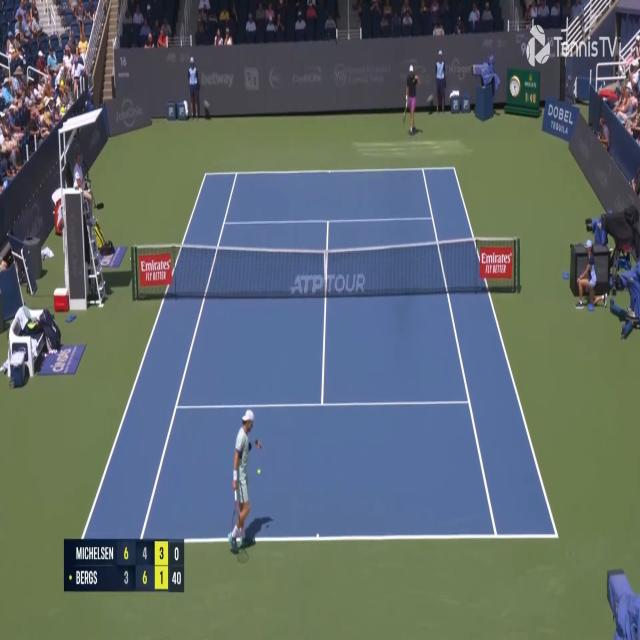tennis-player: (227, 406, 264, 556), (402, 63, 420, 137)
